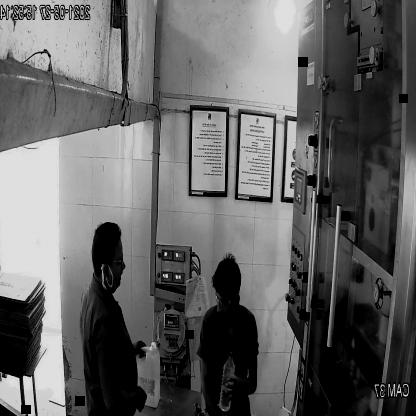goggles: (210, 290, 244, 312)
